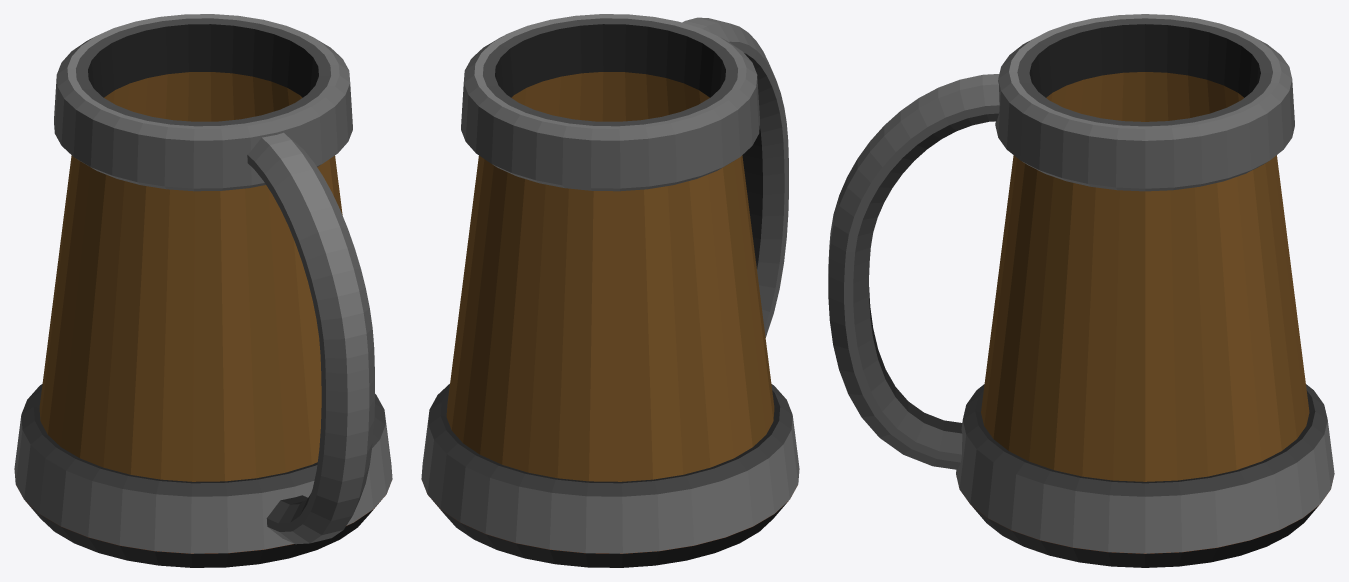
File: Copo.fbx
3 renders of one model, left to right at view 1: azimuth 30°, elevation 25°; view 2: azimuth 150°, elevation 25°; view 3: azimuth 270°, elevation 25°, orthographic.
Parts seen in each view (by area): view 1: Cylinder; view 2: Cylinder; view 3: Cylinder.
Boxes of the visible parts, x1,y1,x2,y2 form: Cylinder: [14, 14, 392, 567]; Cylinder: [421, 14, 799, 567]; Cylinder: [828, 14, 1334, 567].
Bounding box in the file's own units: 245 × 303 × 328.
